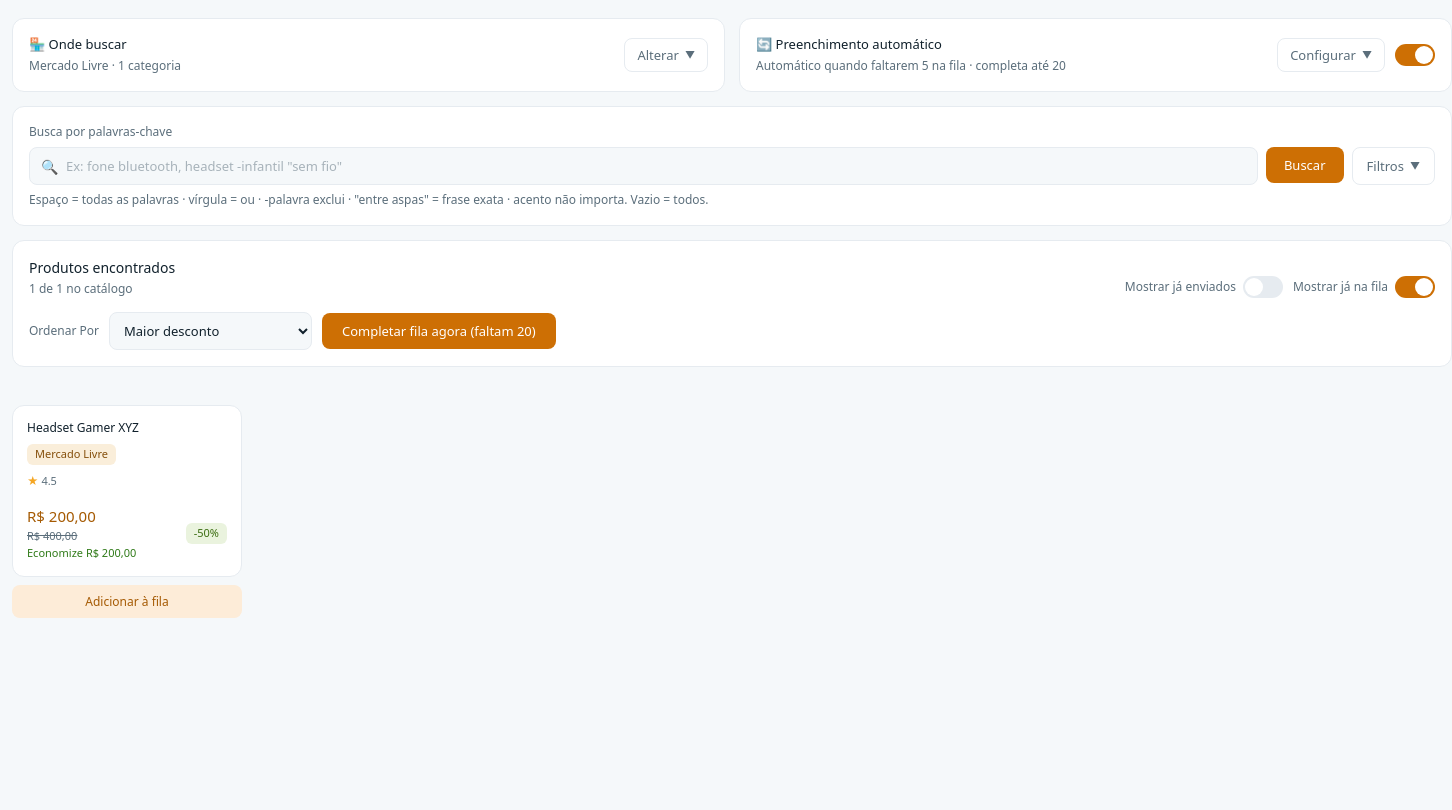
ProductSearchTab — lojas e categorias › só as categorias ligadas ficam à mostra; as outras vêm no botão Adicionar
Click the button with aria-label "Escolher lojas e categorias" at x=666, y=55, box [624, 38, 708, 72]
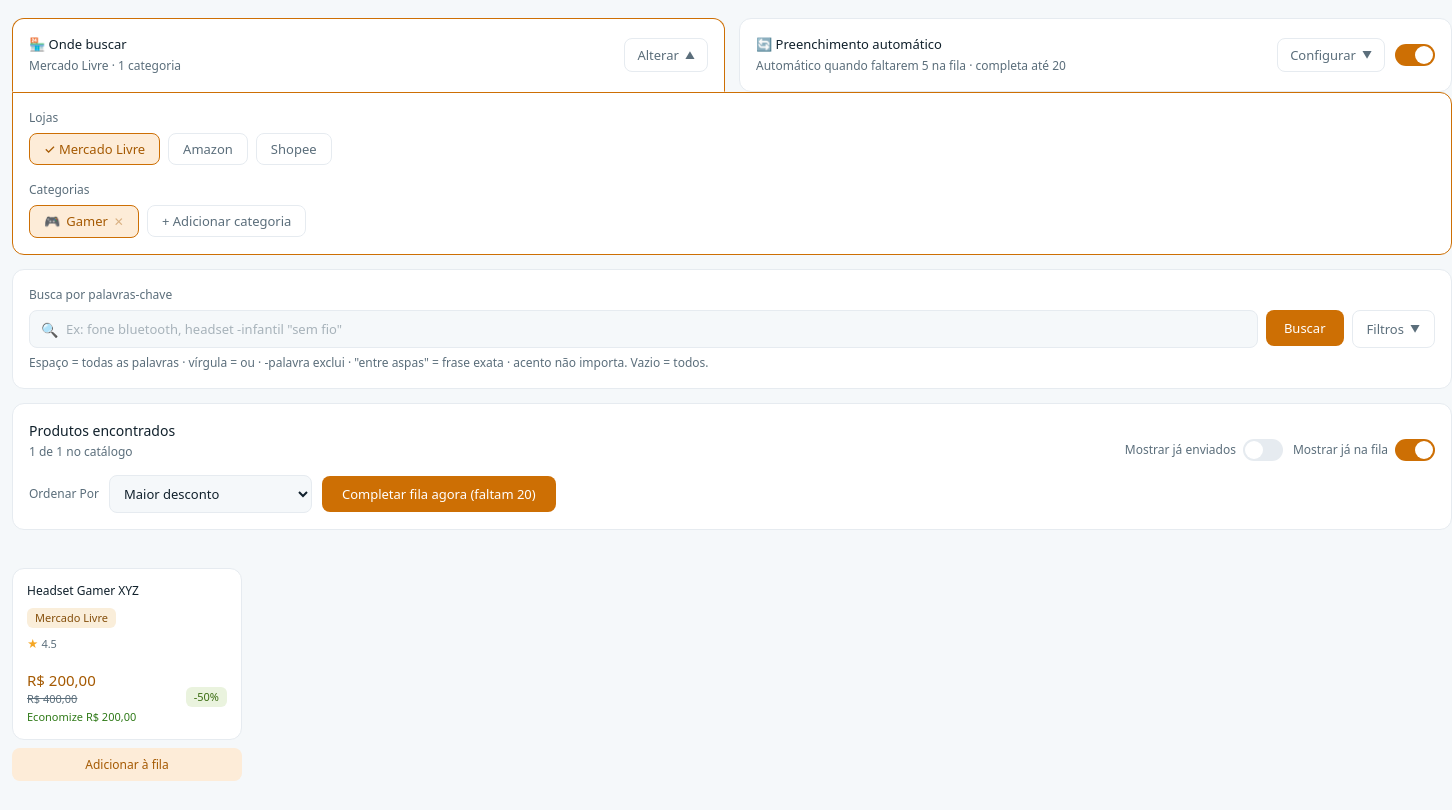
expect the button "Casa" is not shown: met
Click the button "+ Adicionar categoria" at x=227, y=221, box [147, 205, 306, 237]
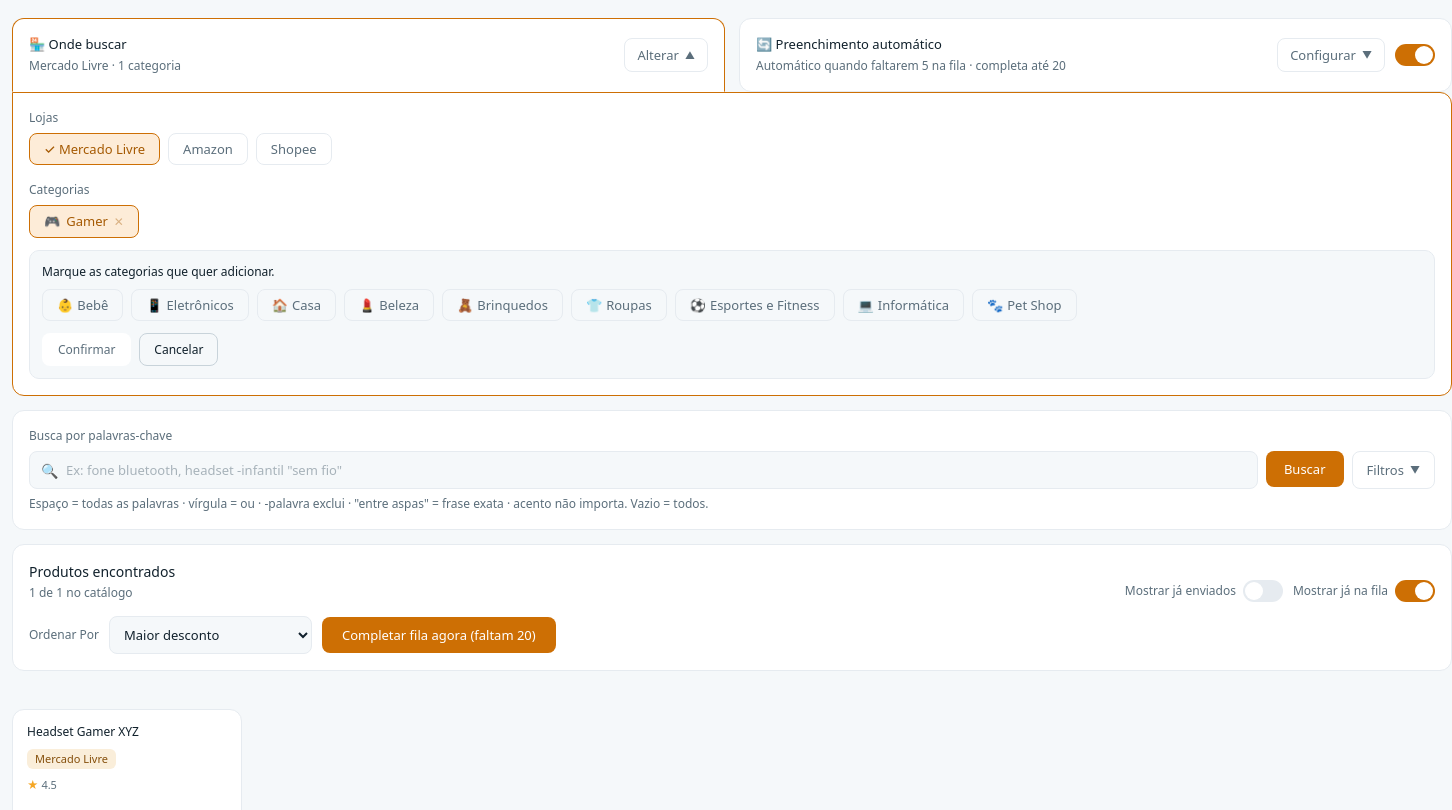
expect the button "🏠Casa" is shown: met, box [257, 289, 336, 321]
